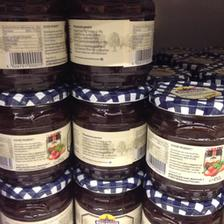Marmelade: (147, 78, 223, 198), (67, 0, 155, 88), (69, 84, 149, 180), (0, 89, 70, 185), (0, 0, 68, 92), (72, 168, 144, 224), (0, 177, 72, 223)
